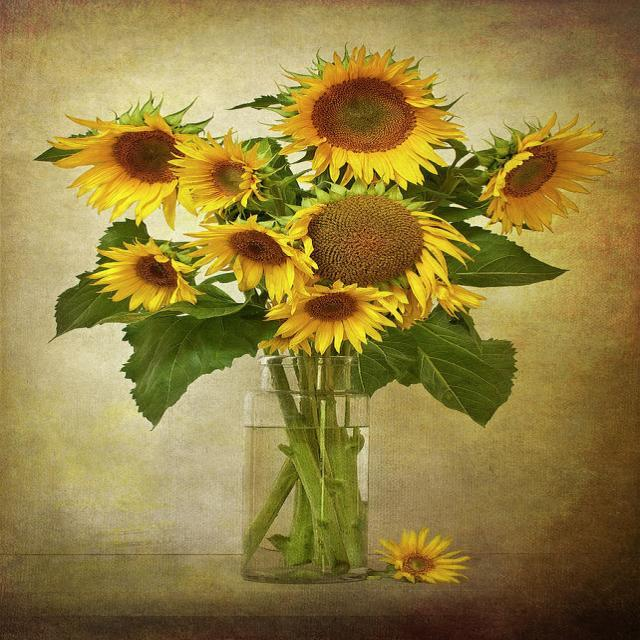sunflower: (267, 43, 468, 190), (285, 185, 484, 328), (46, 106, 200, 228), (476, 111, 616, 235), (178, 212, 318, 302), (258, 278, 397, 355), (166, 128, 272, 215), (86, 235, 205, 312), (381, 279, 492, 336), (370, 526, 470, 584), (251, 296, 319, 356)
